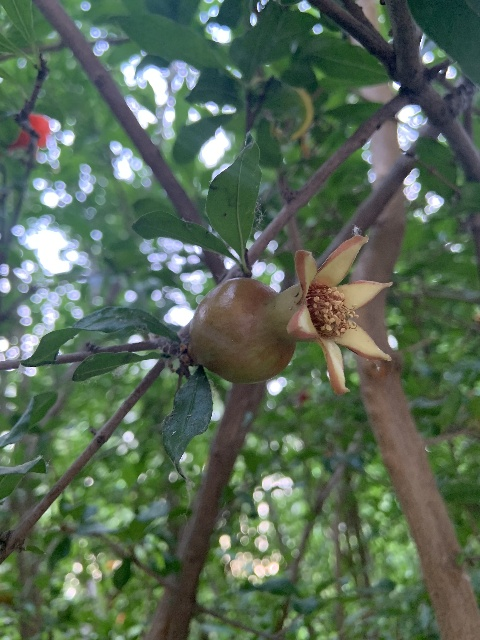early-fruit: (189, 234, 392, 394)
